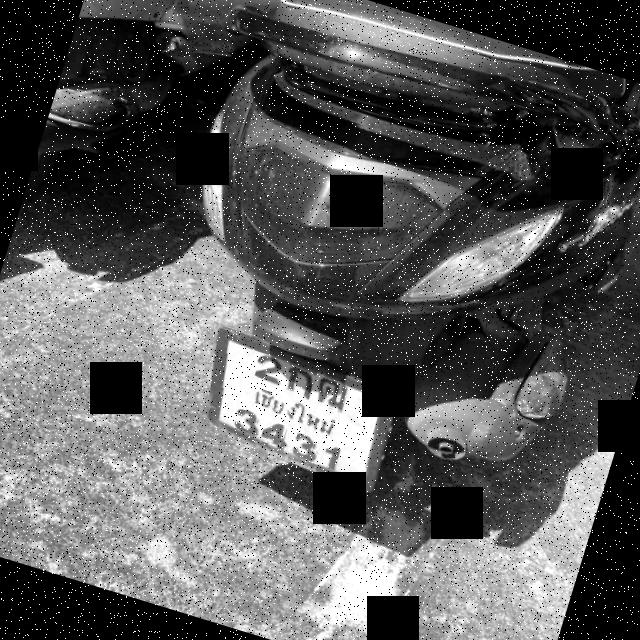letters: (308, 371, 354, 413), (316, 442, 352, 479), (284, 365, 320, 401), (226, 401, 260, 434), (260, 420, 288, 448), (254, 358, 285, 383), (291, 428, 316, 458)
license-plate: (207, 336, 390, 488)
province: (245, 378, 346, 440)
